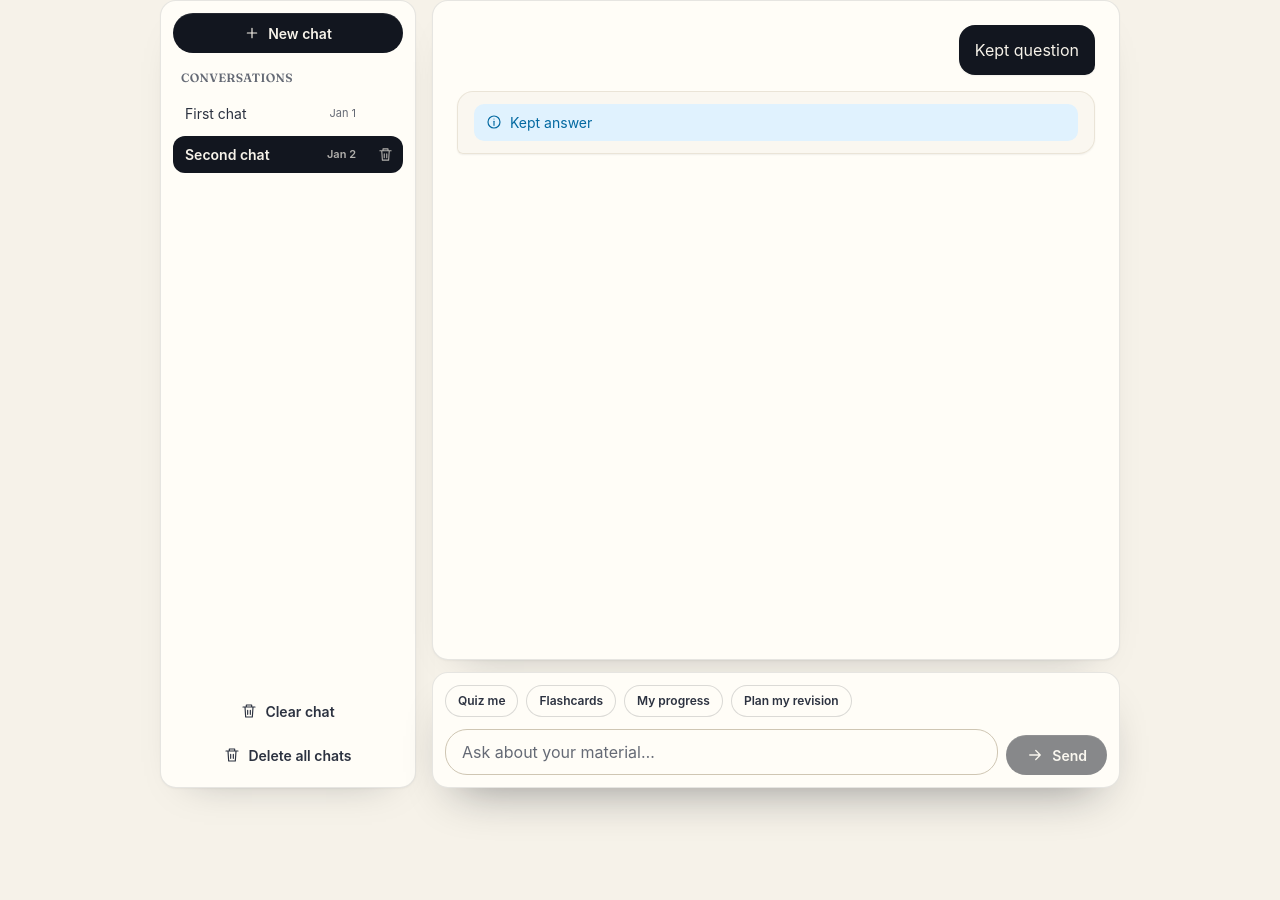
Test: deletes every conversation after typing DELETE ALL
Expected: the text "Kept question" is shown, [975, 37, 1079, 63]
Click the button "Delete all chats": click(288, 755) [173, 735, 403, 775]
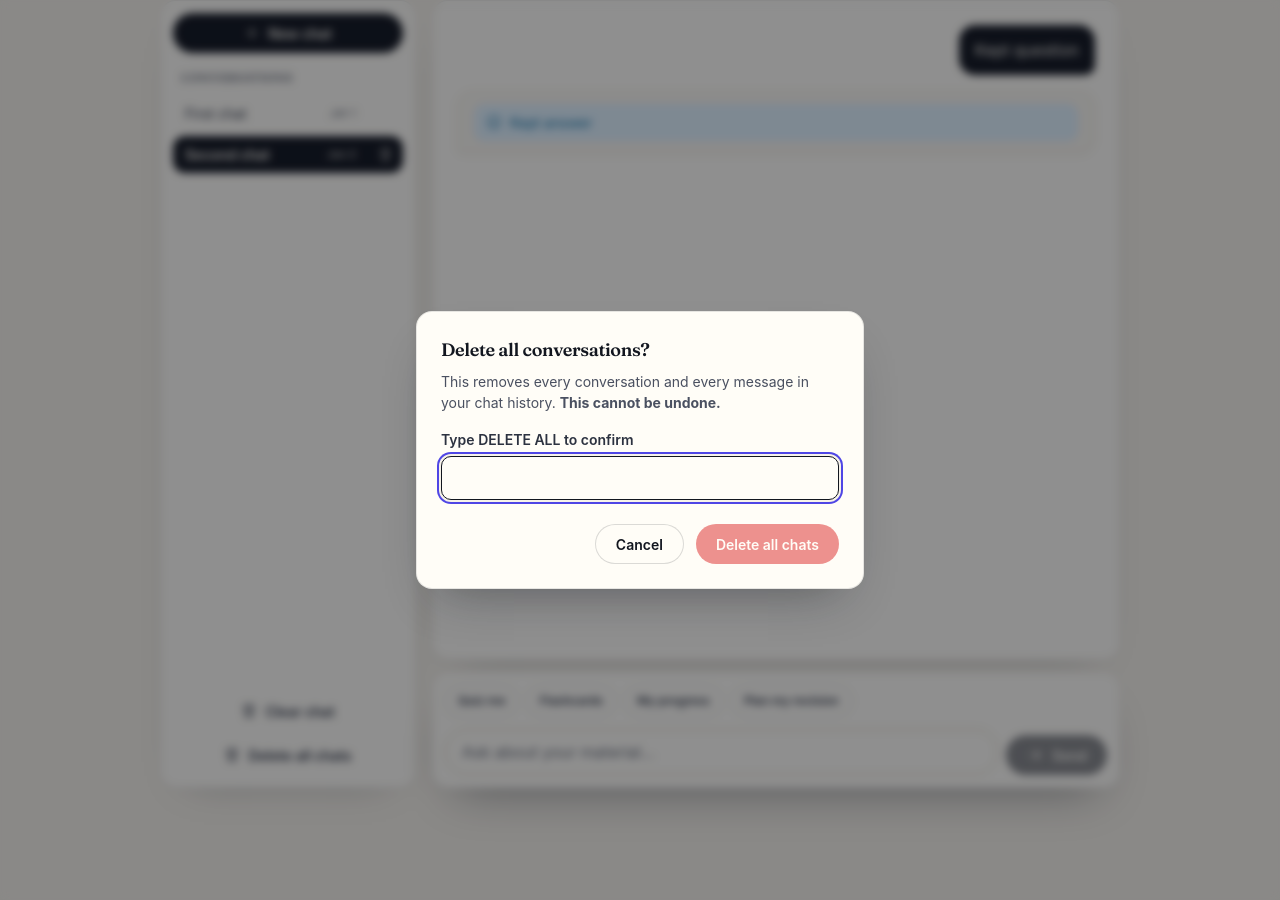
In the field labelled "Type DELETE ALL to confirm": (640, 478) [441, 456, 839, 500], type "DELETE ALL"
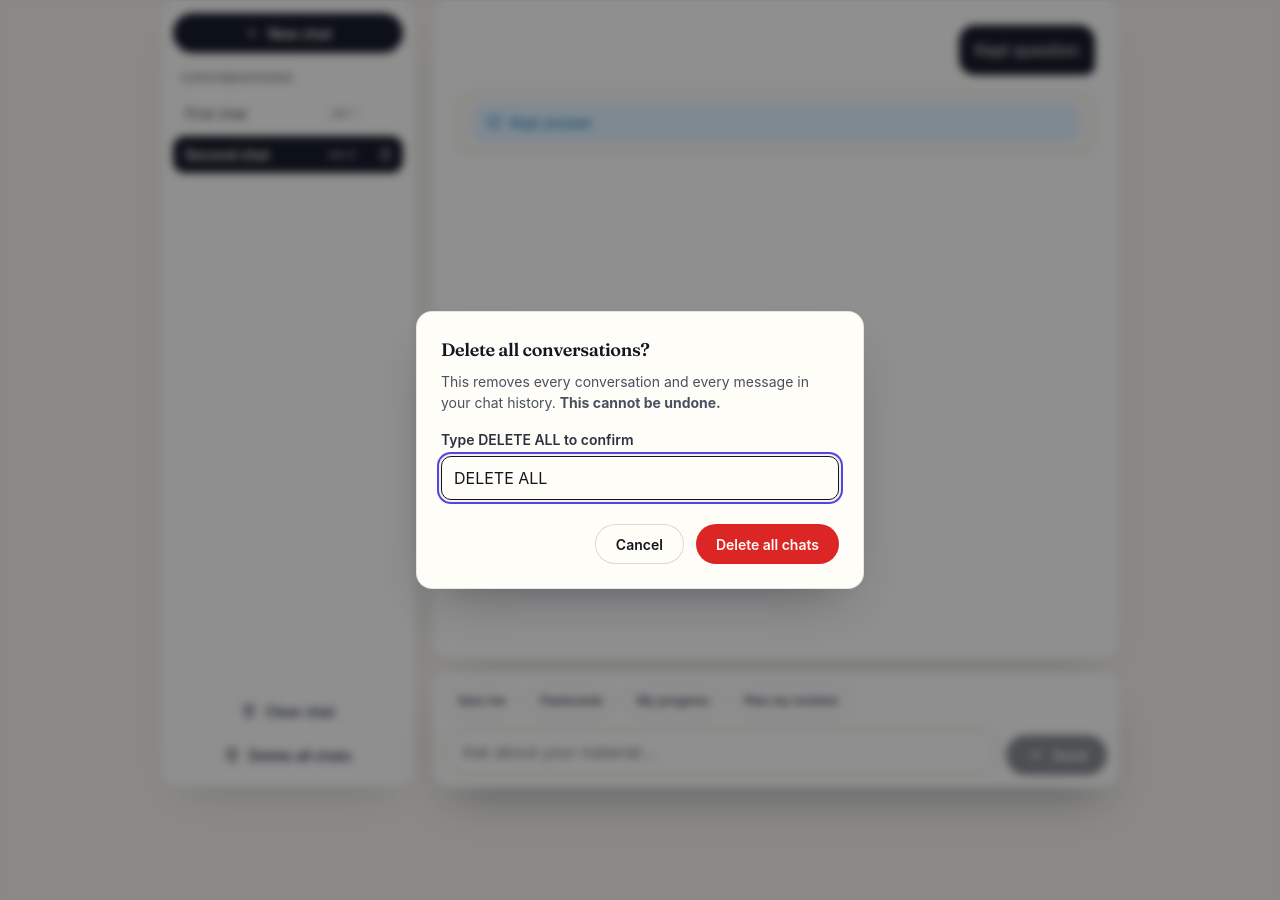
Click the button "Delete all chats": click(767, 544) [696, 524, 839, 564]
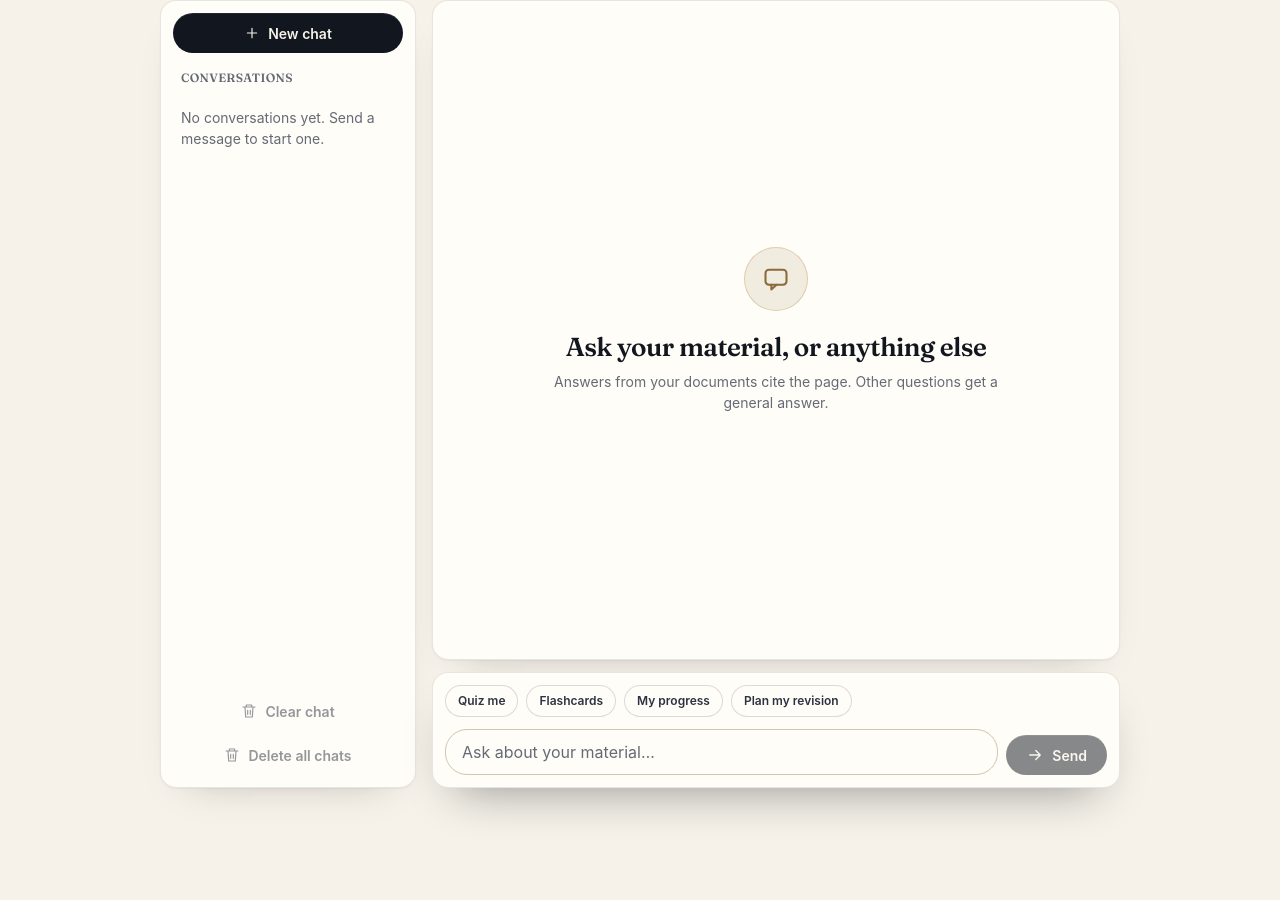
Expected: the text "No conversations yet. Send a message to start one." is shown, [181, 109, 375, 147]
Expected: the heading "Ask your material, or anything else" is shown, [566, 331, 986, 363]
Expected: the text "Kept question" is gone
